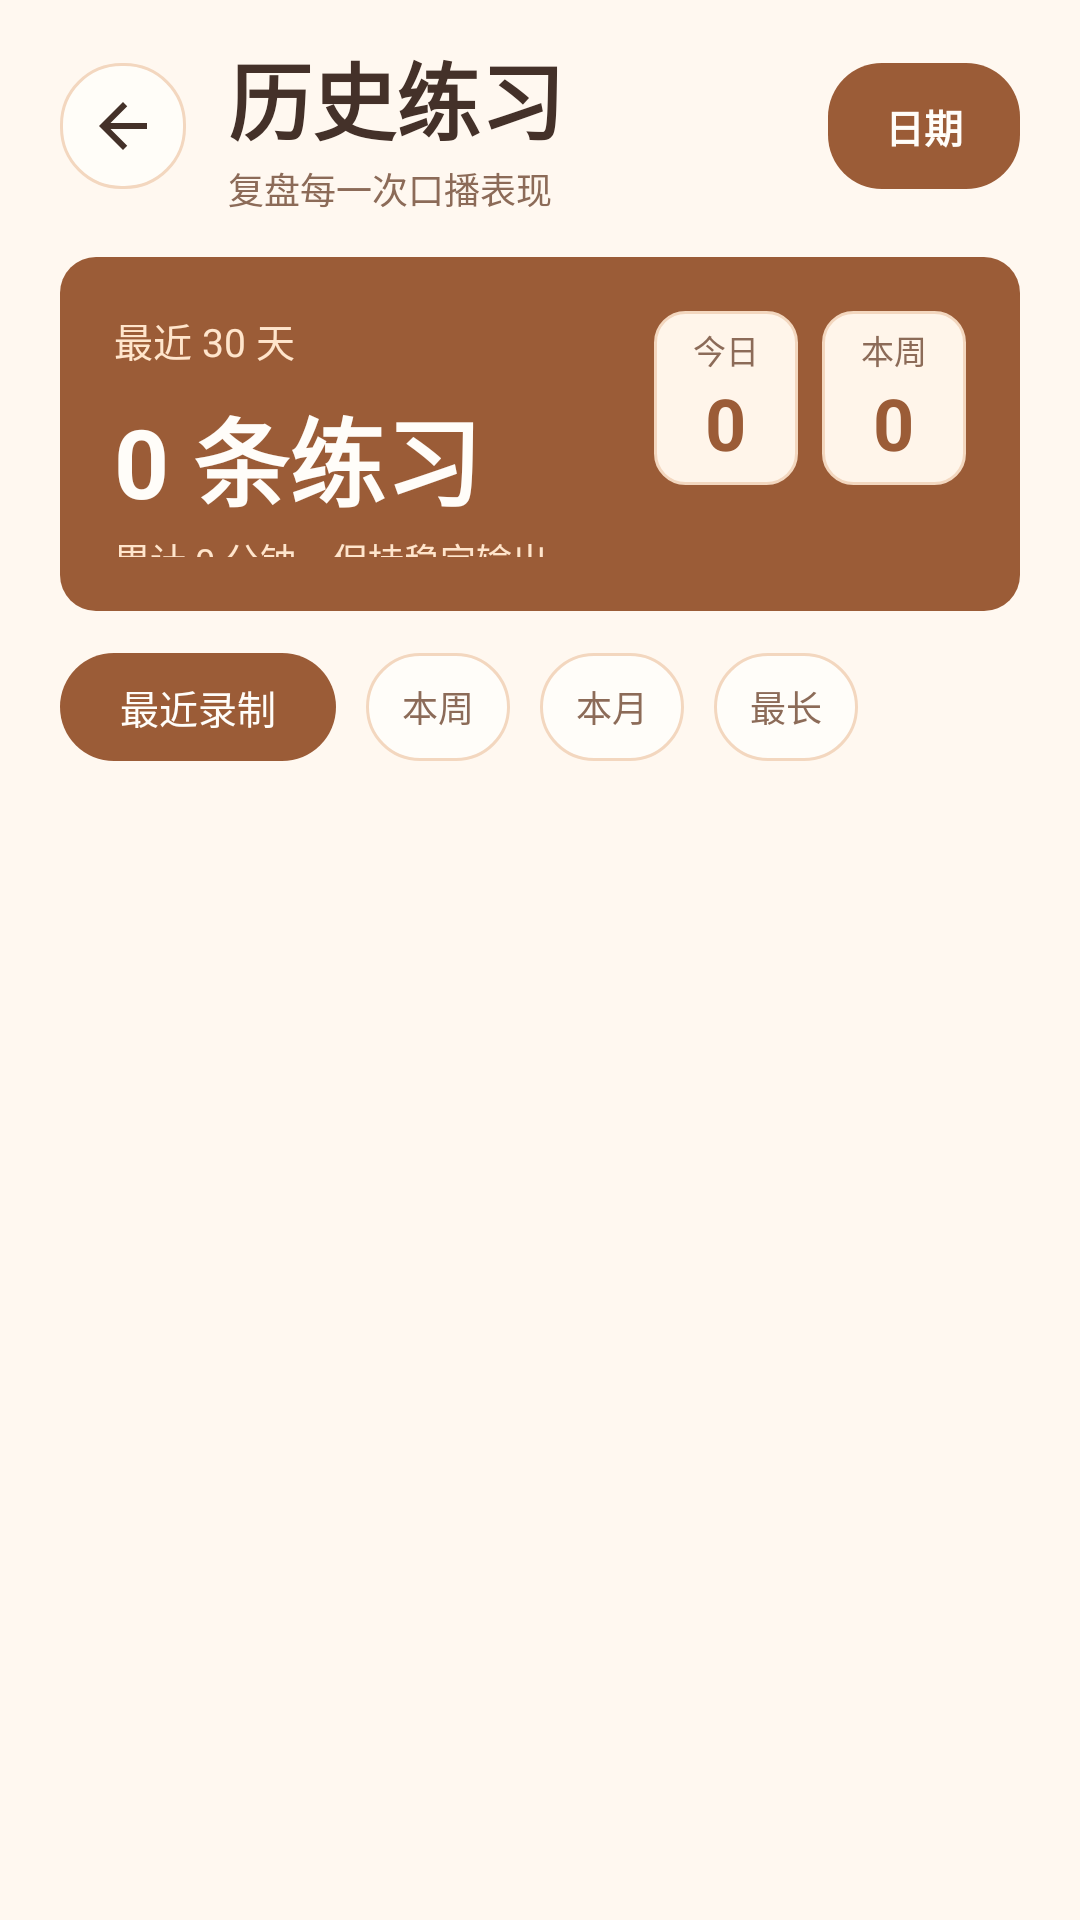

Locate icon controls on the screen. Image size 1080×1920, boxes as (x1, y1, x2, y2).
返回: (60, 63, 186, 189)
